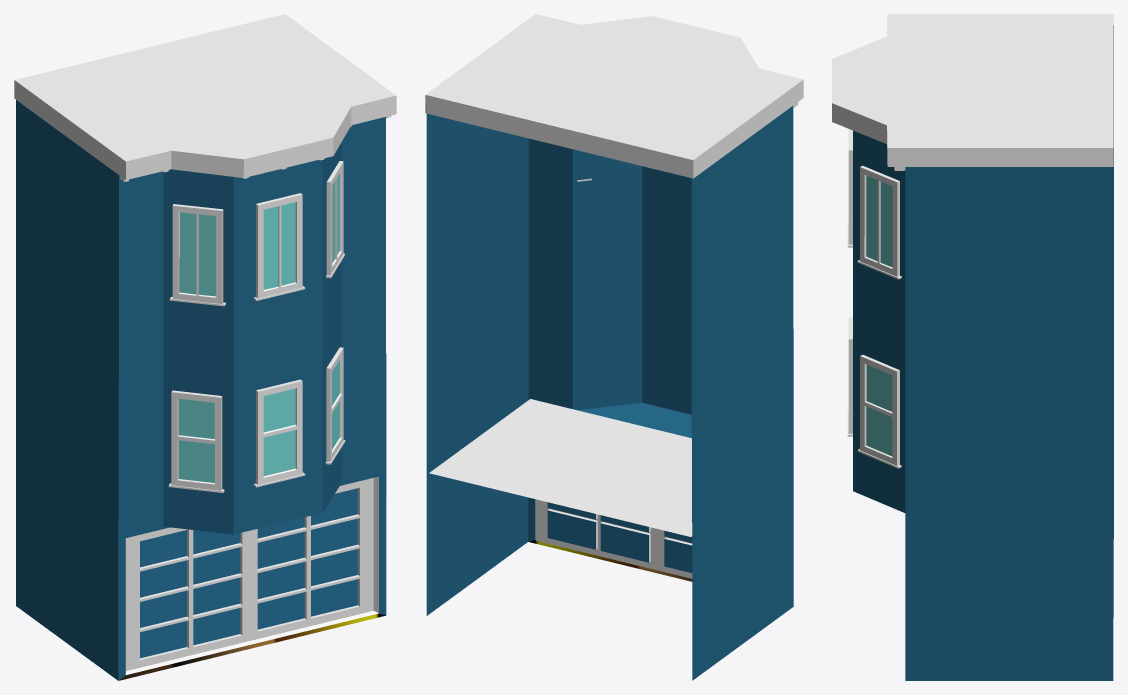
The model's file is house1.glb.
3 views of the same model, side by side, from view 1: azimuth 30°, elevation 25°; view 2: azimuth 150°, elevation 25°; view 3: azimuth 270°, elevation 25° (orthographic). The views are drawn at different scales.
Parts seen in each view (by area): view 1: Wall.001, GarageTrim, Window.002, Window.005, Window, Window.003, Sash.002, Sash.003, Sash.005, Sash, Sash.004, Sash.001 (+1 smaller); view 2: Wall.001, GarageTrim; view 3: Wall.001, Sash.004, Sash.001, Window.001, Window.004, Sash, Sash.003.
Boxes of the visible parts, x1,y1,x2,y2 form: Wall.001: [14, 14, 396, 680]; GarageTrim: [125, 476, 378, 674]; Window.002: [178, 399, 214, 482]; Window.005: [180, 212, 215, 296]; Window: [263, 388, 295, 476]; Window.003: [263, 202, 295, 289]; Sash.002: [168, 390, 224, 492]; Sash.003: [253, 193, 305, 300]; Sash.005: [169, 204, 225, 306]; Sash: [253, 379, 305, 487]; Sash.004: [326, 161, 344, 278]; Sash.001: [325, 347, 345, 464]; Wall.001: [425, 14, 803, 680]; GarageTrim: [429, 399, 692, 578]; Wall.001: [832, 14, 1113, 680]; Sash.004: [857, 165, 901, 279]; Sash.001: [857, 355, 901, 468]; Window.001: [866, 365, 892, 455]; Window.004: [866, 175, 892, 267]; Sash: [847, 317, 852, 436]; Sash.003: [847, 129, 852, 247].
Size of the model in its own units: 6.8 by 12.62 by 6.04.
Materials: 3 (1 with a texture image).
